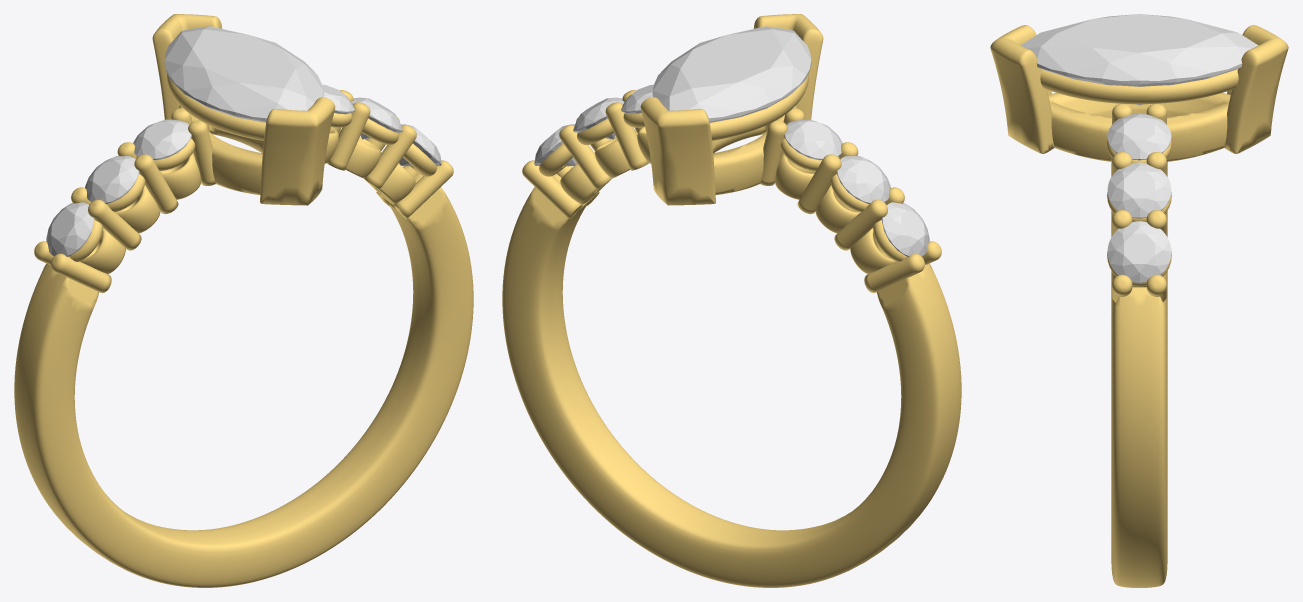
Rendered from diamond-marquise-yellowgold-protectededges2prongs-straightband-7stone.glb.
The picture shows the model from 3 angles, left to right: view 1: azimuth 30°, elevation 25°; view 2: azimuth 150°, elevation 25°; view 3: azimuth 270°, elevation 25°; orthographic projection. The views are drawn at different scales.
Parts seen in each view (by area): view 1: metal, stone, side, side.003, side.004, side.006; view 2: metal, stone, side, side.003, side.004, side.006; view 3: metal, stone, side.005, side.006, side.007.
Boxes of the visible parts, left/top/right/bottom form: metal: left=14, top=14, right=473, bottom=587; stone: left=164, top=26, right=323, bottom=122; side: left=46, top=202, right=94, bottom=256; side.003: left=85, top=156, right=139, bottom=203; side.004: left=133, top=119, right=191, bottom=160; side.006: left=351, top=97, right=402, bottom=139; metal: left=502, top=14, right=961, bottom=587; stone: left=652, top=26, right=811, bottom=122; side: left=881, top=202, right=929, bottom=256; side.003: left=836, top=156, right=890, bottom=203; side.004: left=784, top=119, right=842, bottom=160; side.006: left=573, top=97, right=624, bottom=139; metal: left=990, top=25, right=1288, bottom=587; stone: left=1020, top=14, right=1258, bottom=105; side.005: left=1107, top=221, right=1171, bottom=282; side.006: left=1107, top=162, right=1171, bottom=218; side.007: left=1107, top=113, right=1171, bottom=160.
Size of the model in its own units: 20.5 by 22.94 by 11.69.
